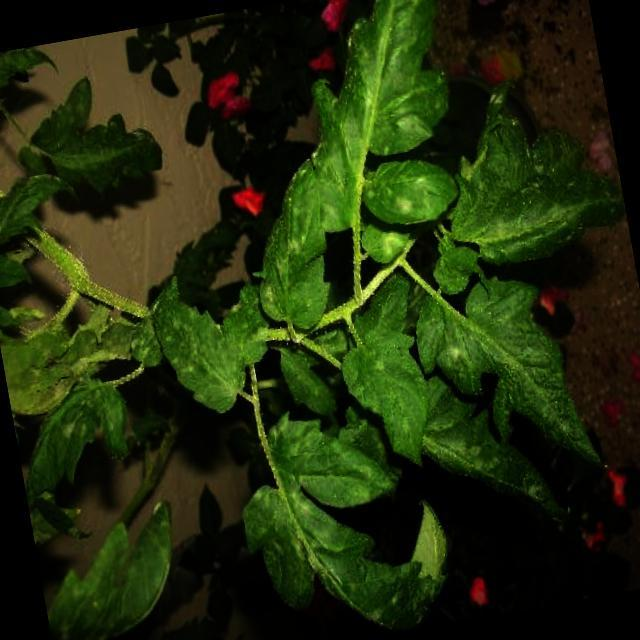Tomato mold leaf: (220, 394, 464, 640), (402, 248, 605, 499), (440, 76, 630, 272), (277, 0, 473, 179), (31, 502, 201, 640), (234, 155, 348, 333), (8, 369, 147, 501), (146, 276, 252, 426), (354, 148, 467, 235)
